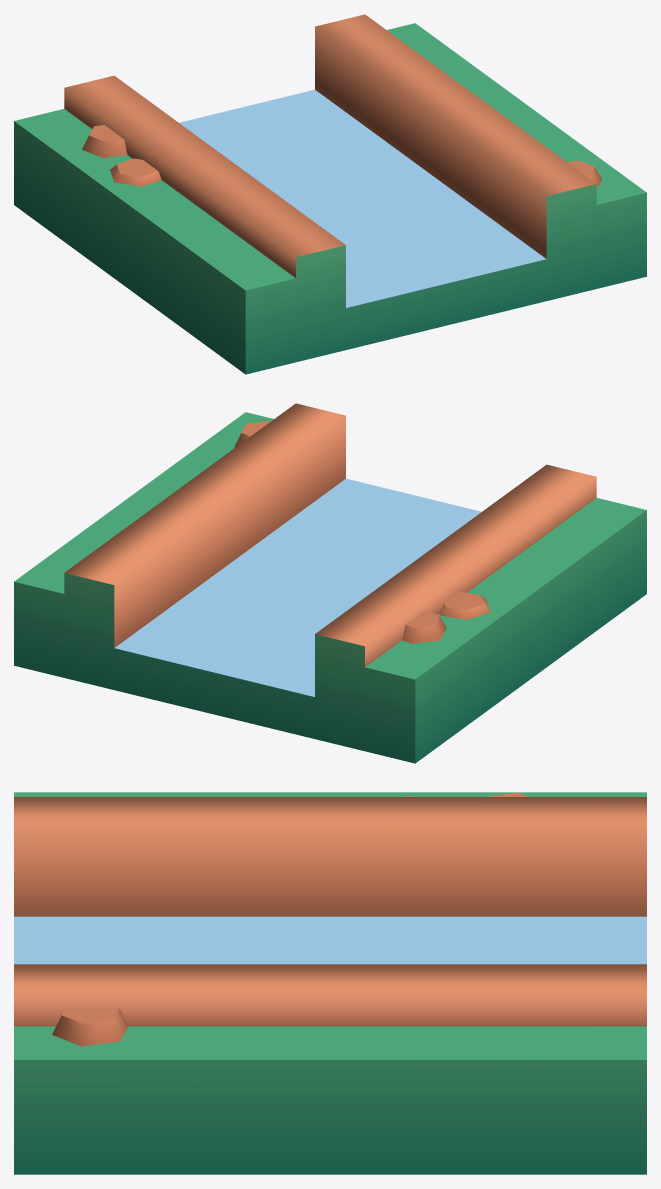
The model's file is tile-river-straight.glb.
3 views of the same model, one above another, from view 1: azimuth 30°, elevation 25°; view 2: azimuth 150°, elevation 25°; view 3: azimuth 270°, elevation 25° (orthographic). The views are drawn at different scales.
Visible parts, largest first — view 1: tile-river-straight; view 2: tile-river-straight; view 3: tile-river-straight.
Boxes of the visible parts, left/top/right/bottom form: tile-river-straight: left=14, top=14, right=646, bottom=374; tile-river-straight: left=14, top=403, right=646, bottom=763; tile-river-straight: left=14, top=792, right=646, bottom=1174.
Bounding box in the file's own units: 1 × 0.25 × 1.
Materials: 1 (1 with a texture image).
